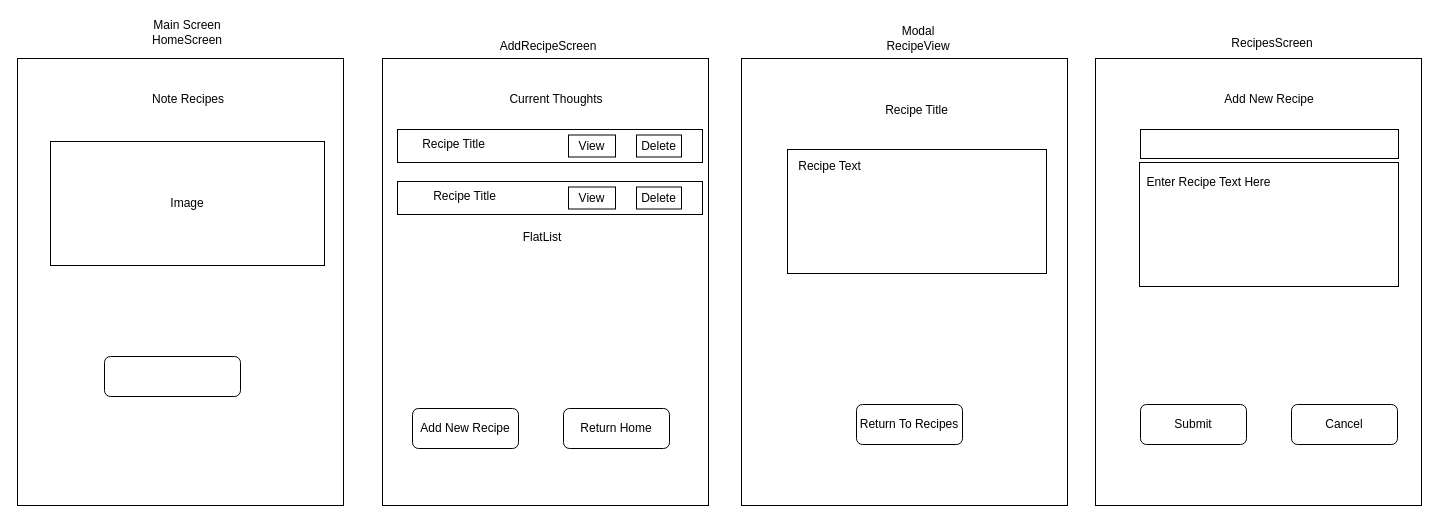
This 1439x523 diagram has some shape labels left out. Each missing label, with the box of its shape:
Enter Recipe Title Here: (1140, 128, 1398, 158)
Go to Recipes: (104, 356, 240, 396)
